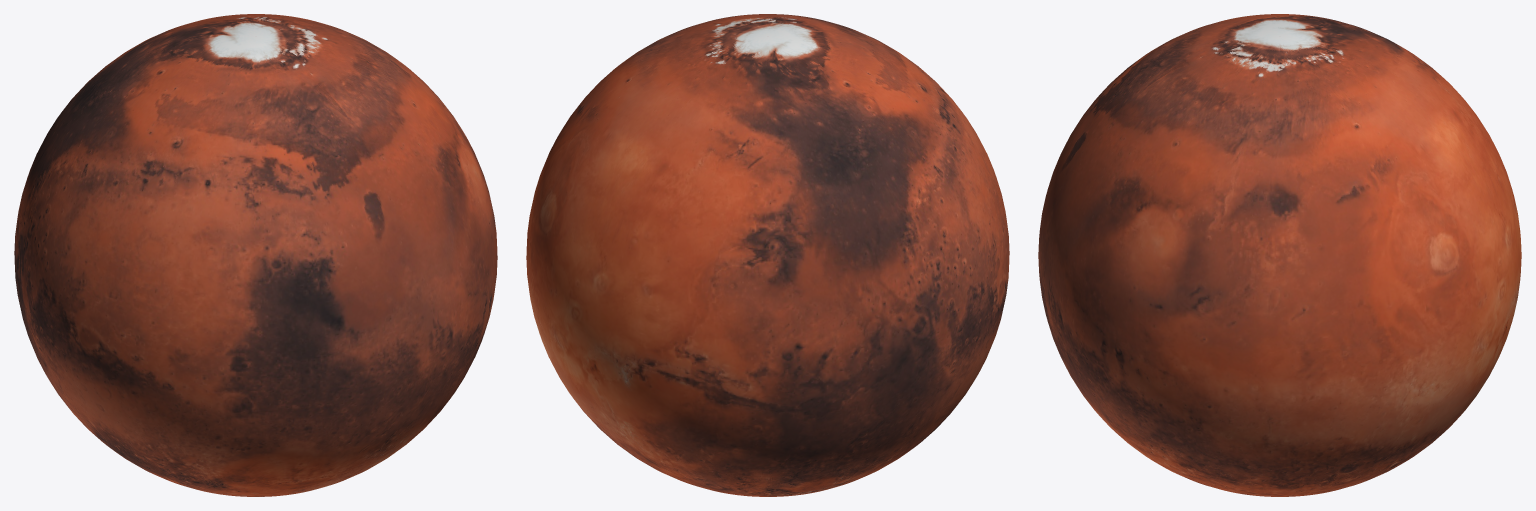
File: MARS_02.gltf
The picture shows the model from 3 angles, left to right: view 1: azimuth 30°, elevation 25°; view 2: azimuth 150°, elevation 25°; view 3: azimuth 270°, elevation 25°; orthographic projection.
Parts seen in each view (by area): view 1: Sphere.3; view 2: Sphere.3; view 3: Sphere.3.
Part boxes in pixels (x1,y1,x2,y2): Sphere.3: (14,14,497,496); Sphere.3: (526,14,1009,496); Sphere.3: (1038,14,1521,496).
Bounding box in the file's own units: 73.48 × 73.48 × 73.48.
1 material, 1 textured.
